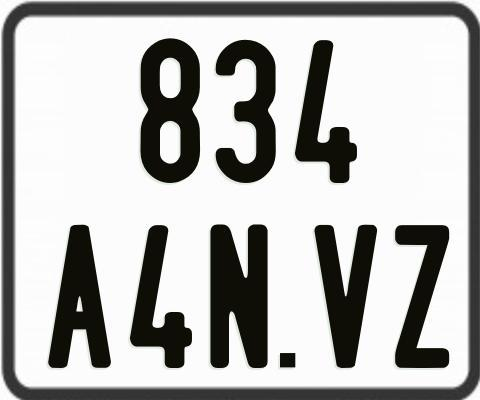3: (215, 37, 281, 184)
4: (294, 40, 361, 186), (130, 223, 194, 370)
8: (139, 35, 202, 186)
A: (48, 223, 117, 368)
N: (207, 223, 270, 371)
V: (314, 222, 379, 365)
Z: (393, 225, 453, 370)
